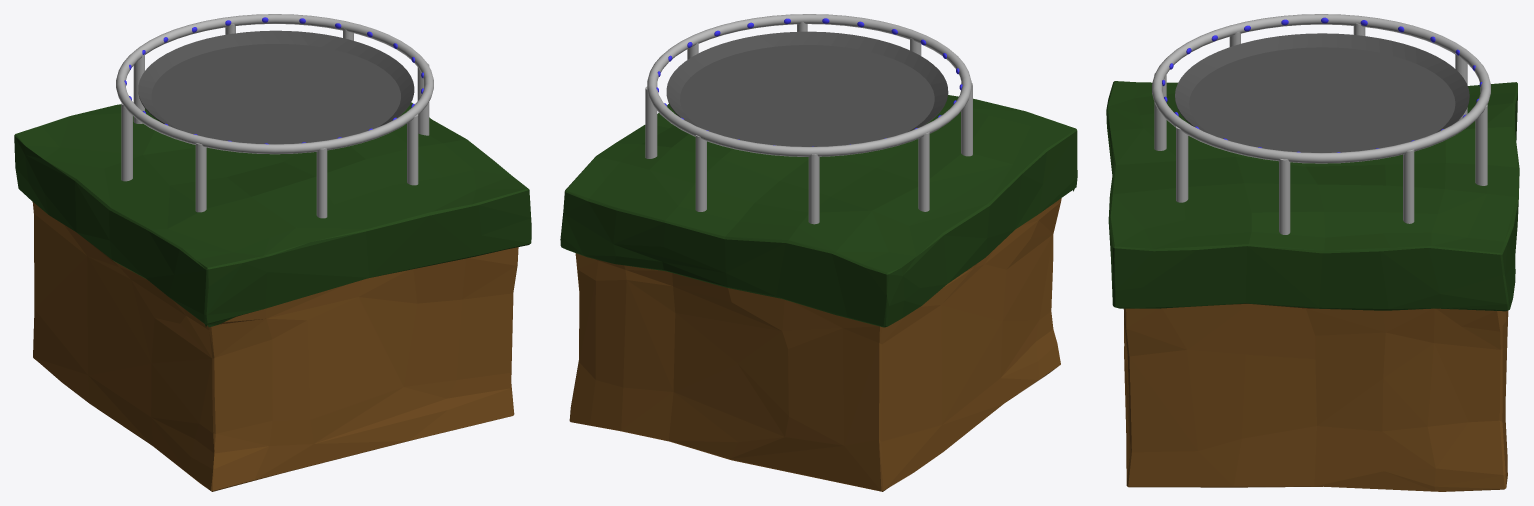
File: tile_trampolin.gltf
The picture shows the model from 3 angles, left to right: view 1: azimuth 30°, elevation 25°; view 2: azimuth 150°, elevation 25°; view 3: azimuth 270°, elevation 25°; orthographic projection. The views are drawn at different scales.
Parts seen in each view (by area): view 1: hill.004, Torus; view 2: hill.004, Torus; view 3: hill.004, Torus.
Boxes of the visible parts, <box> form: hill.004: <box>14,102,531,491</box>; Torus: <box>116,14,433,218</box>; hill.004: <box>560,95,1077,491</box>; Torus: <box>645,14,972,224</box>; hill.004: <box>1106,81,1519,491</box>; Torus: <box>1152,14,1490,234</box>.
Size of the model in its own units: 1.07 by 0.9581 by 1.09.
